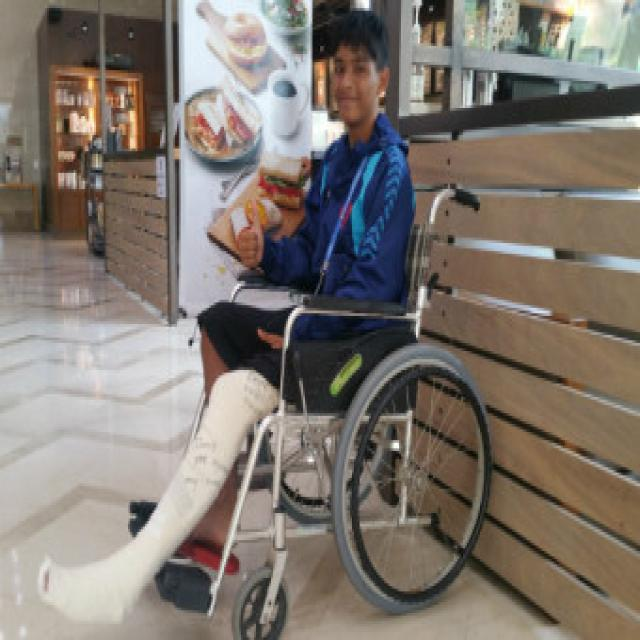wheelchair: (42, 8, 493, 635)
